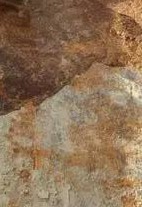Corrosion: (1, 1, 142, 117)
